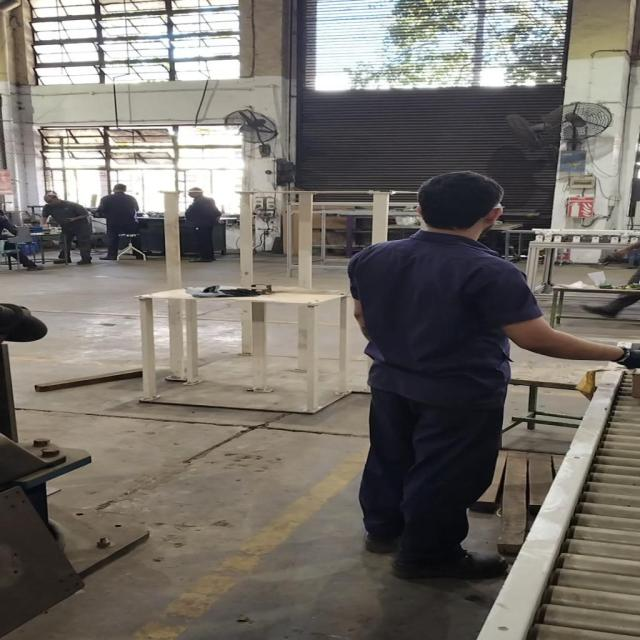Gloves-Detection: (617, 336, 640, 371)
